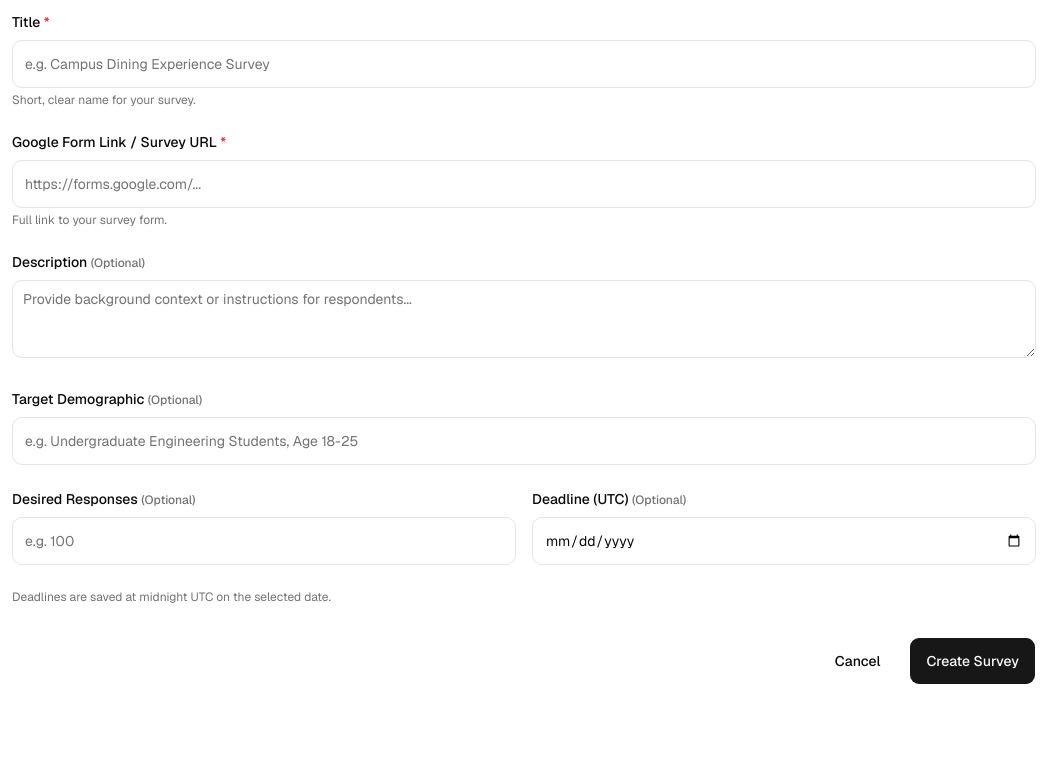
CreateSurveyForm › preserves input after a validation rejection and allows correction
Type "Campus research" into the field labelled "Title *" at (524, 64), box [12,40,1036,88]
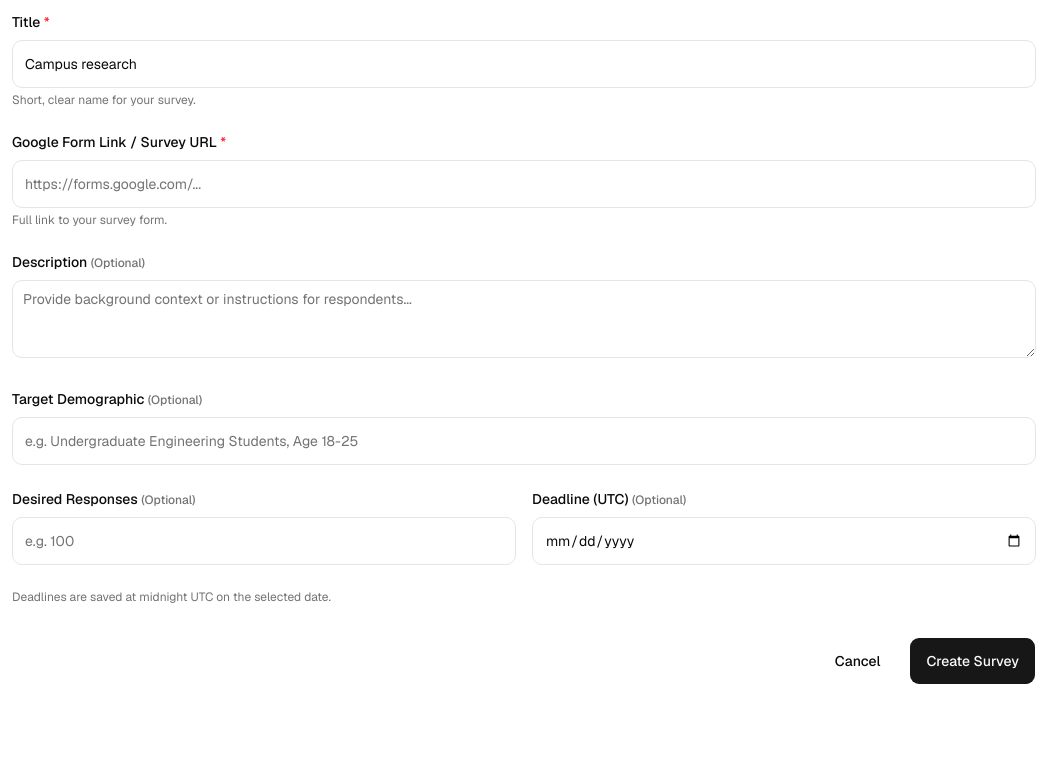
Type "https://example.test/survey" into the field labelled "Google Form Link / Survey URL *" at (524, 184), box [12,160,1036,208]
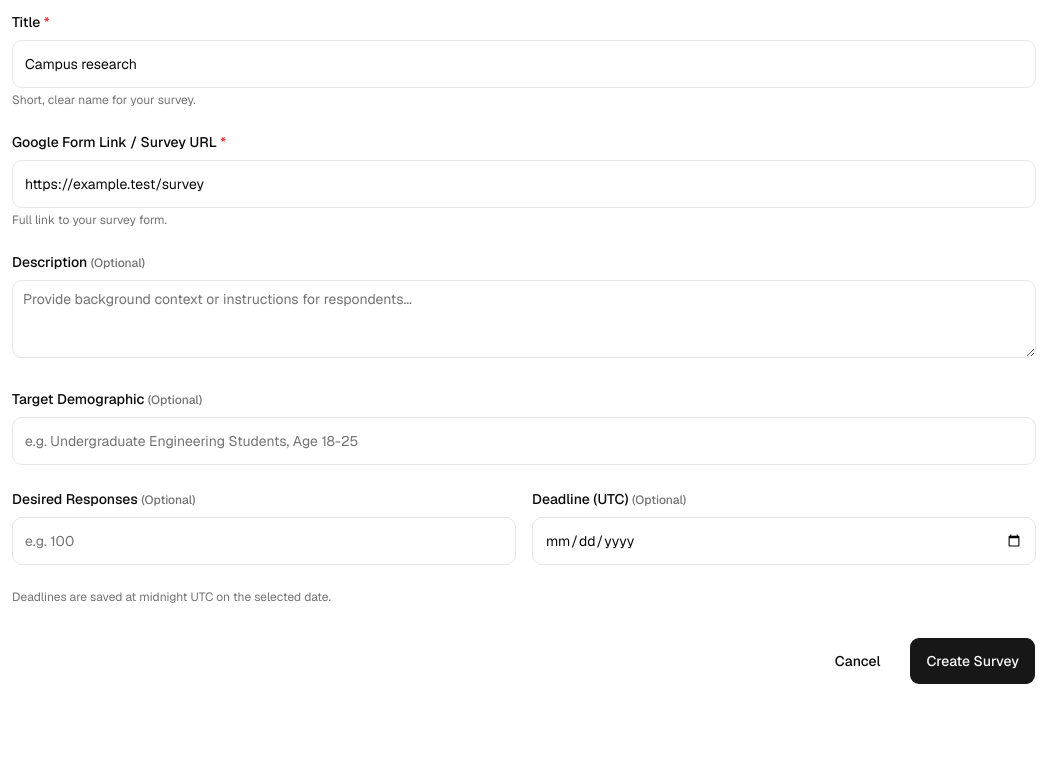
Submit the form
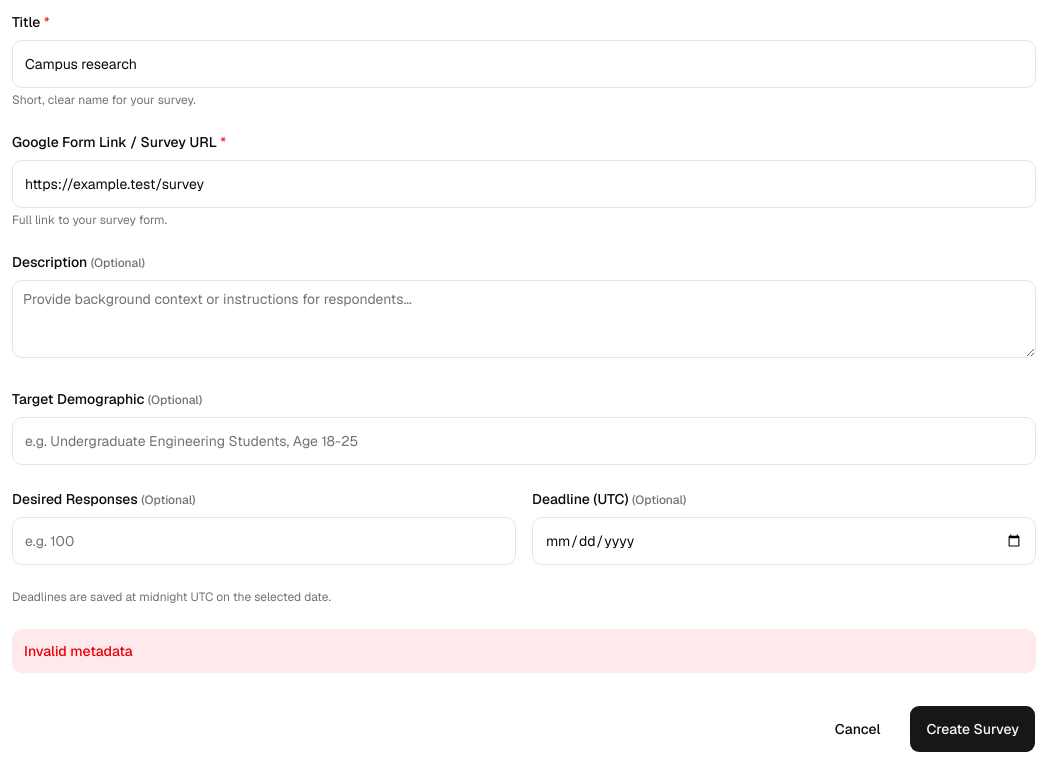
expect the button "Create Survey" is enabled: met, box [909,705,1036,753]
expect the message "Invalid metadata" is shown: met, box [12,629,1036,673]
